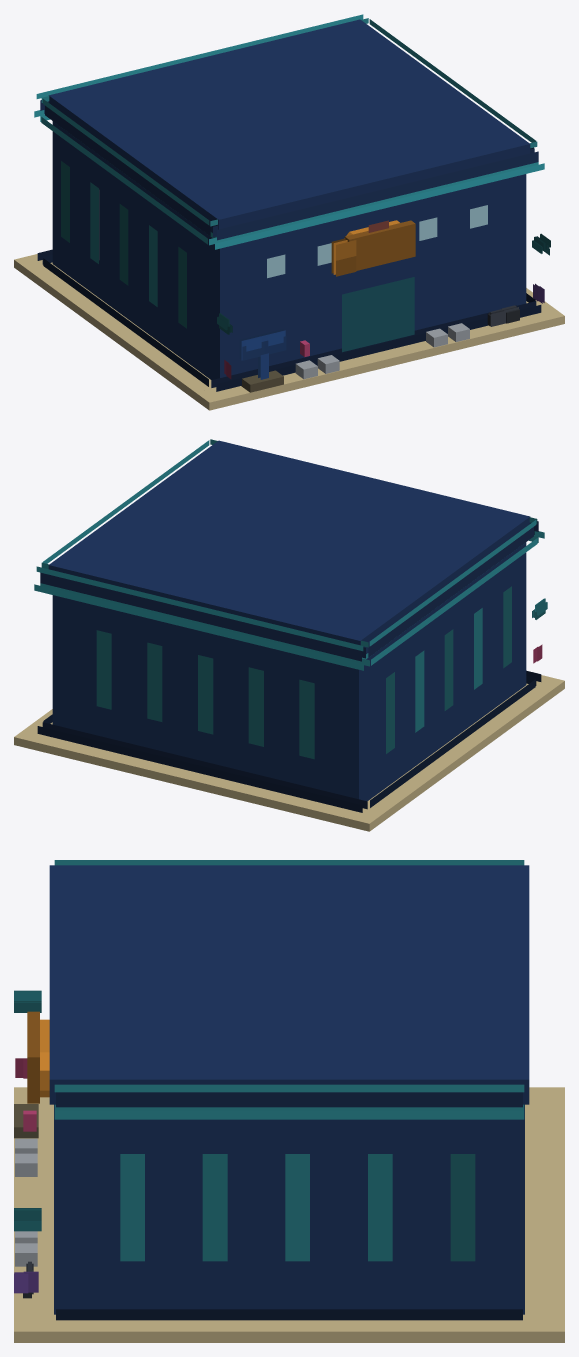
The model's file is AquariumCamelSil.fbx.
3 views of the same model, one above another, from view 1: azimuth 30°, elevation 25°; view 2: azimuth 150°, elevation 25°; view 3: azimuth 270°, elevation 25° (orthographic). The views are drawn at different scales.
Visible parts, largest first — view 1: AQ_S_All; view 2: AQ_S_All; view 3: AQ_S_All.
Boxes of the visible parts, x1=… form: AQ_S_All: x1=14, y1=14, x2=564, y2=410; AQ_S_All: x1=14, y1=439, x2=564, y2=831; AQ_S_All: x1=14, y1=860, x2=564, y2=1342.
Size of the model in its own units: 42.04 by 19.9 by 40.04.
